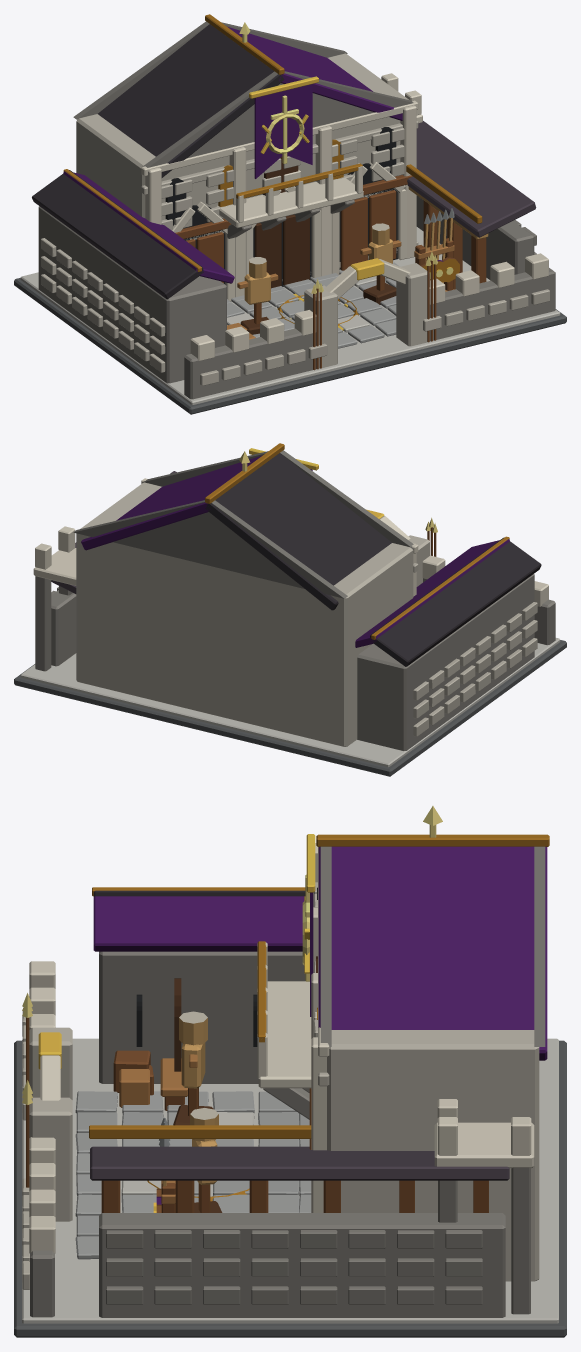
The picture shows the model from 3 angles, top to bottom: view 1: azimuth 30°, elevation 25°; view 2: azimuth 150°, elevation 25°; view 3: azimuth 270°, elevation 25°; orthographic projection. The views are drawn at different scales.
Parts seen in each view (by area): view 1: WK_CityBarracks_LOD0_High; view 2: WK_CityBarracks_LOD0_High; view 3: WK_CityBarracks_LOD0_High.
Boxes of the visible parts, box(x1,y1,x2,y2) form: WK_CityBarracks_LOD0_High: box(14, 14, 566, 414); WK_CityBarracks_LOD0_High: box(14, 443, 566, 776); WK_CityBarracks_LOD0_High: box(14, 806, 566, 1337).
Size of the model in its own units: 16 by 10.1 by 13.
